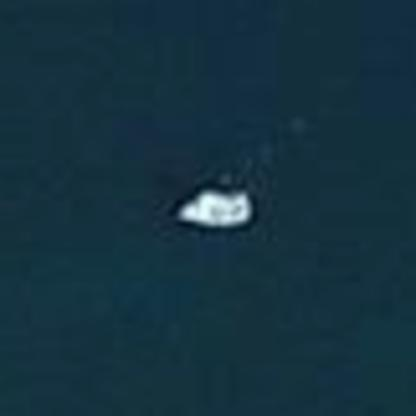ship: (162, 176, 260, 236)
